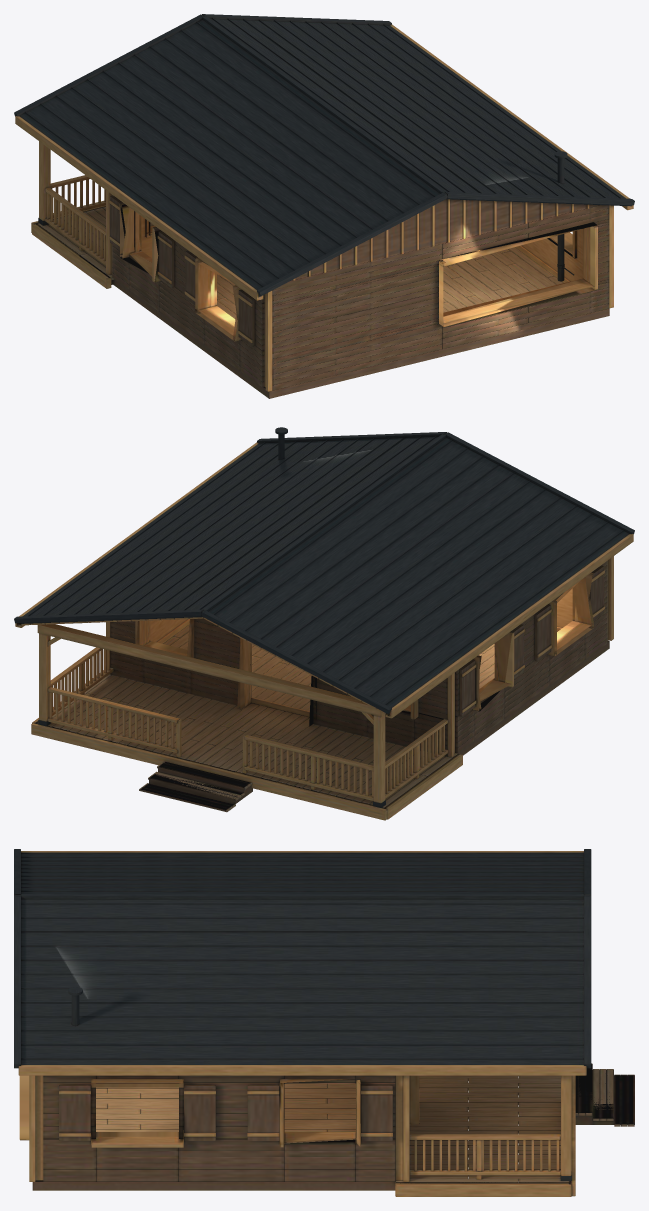
The model's file is cabin-v3.glb.
The picture shows the model from 3 angles, top to bottom: view 1: azimuth 30°, elevation 25°; view 2: azimuth 150°, elevation 25°; view 3: azimuth 270°, elevation 25°; orthographic projection. The views are drawn at different scales.
Visible parts, largest first — view 1: Cabin_Metal, Cabin_Cedar, Cabin_Fir, Cabin_Floor; view 2: Cabin_Metal, Cabin_Fir, Cabin_Cedar, Cabin_Floor; view 3: Cabin_Metal, Cabin_Cedar, Cabin_Fir, Cabin_Floor.
Boxes of the visible parts, x1=… form: Cabin_Metal: x1=14, y1=14, x2=634, y2=296; Cabin_Cedar: x1=110, y1=195, x2=609, y2=398; Cabin_Fir: x1=15, y1=24, x2=633, y2=391; Cabin_Floor: x1=36, y1=207, x2=563, y2=319; Cabin_Metal: x1=14, y1=427, x2=634, y2=807; Cabin_Fir: x1=15, y1=442, x2=633, y2=820; Cabin_Cedar: x1=110, y1=561, x2=609, y2=811; Cabin_Floor: x1=36, y1=624, x2=494, y2=812; Cabin_Metal: x1=14, y1=849, x2=591, y2=1180; Cabin_Cedar: x1=32, y1=1064, x2=634, y2=1190; Cabin_Fir: x1=18, y1=851, x2=586, y2=1196; Cabin_Floor: x1=96, y1=1063, x2=634, y2=1183.
Bounding box in the file's own units: 11.6 × 5.18 × 14.11.
Materials: 5 (5 with a texture image).
